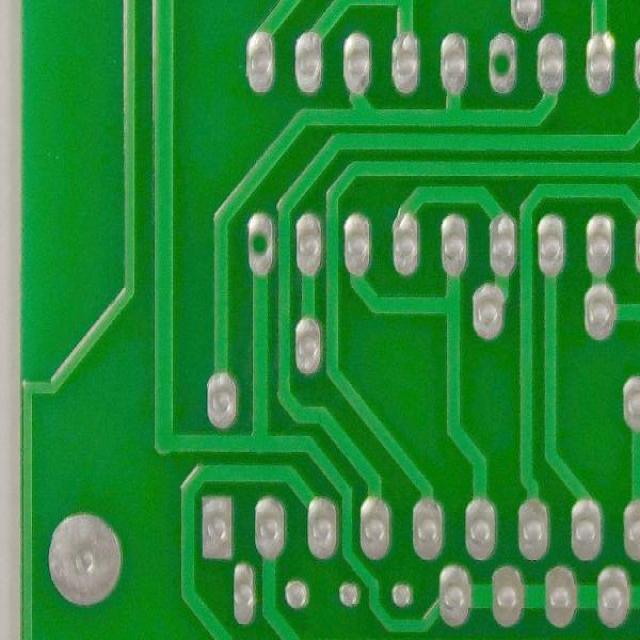missing hole: (483, 25, 523, 96), (244, 207, 278, 277)
